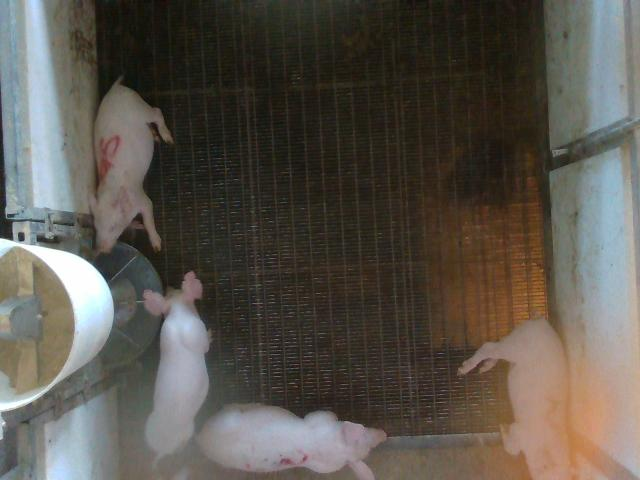pig-2: (459, 318, 569, 479)
pig-3: (198, 404, 386, 479)
pig-5: (89, 76, 174, 252)
